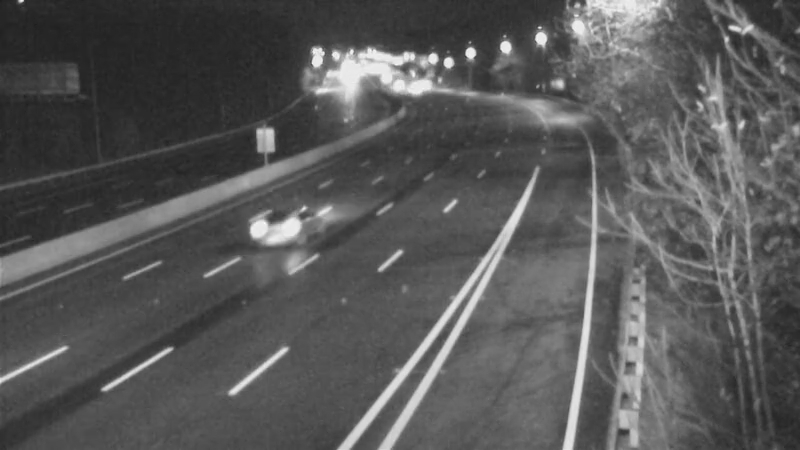vehicle: (217, 192, 297, 272)
